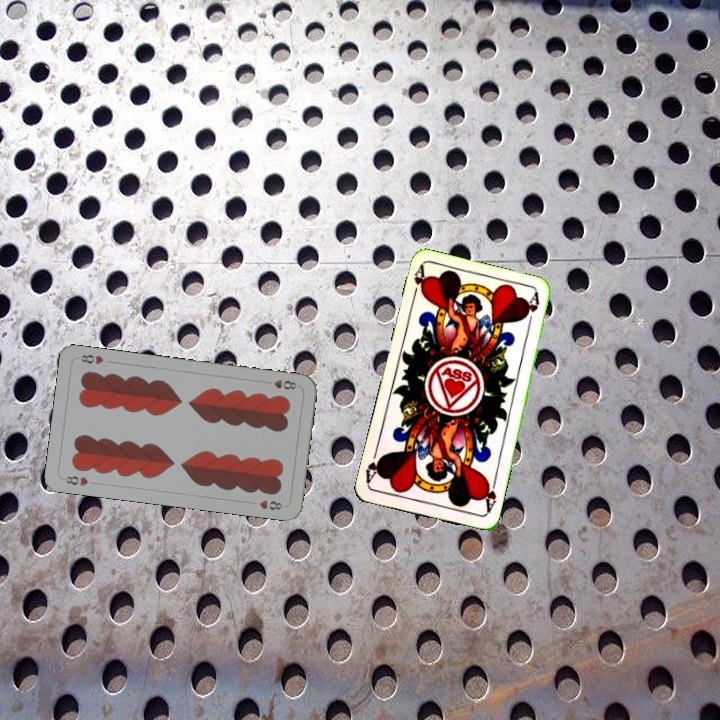H8: (59, 472, 91, 489), (270, 375, 299, 392)
HA: (408, 262, 430, 303), (479, 475, 499, 516)
